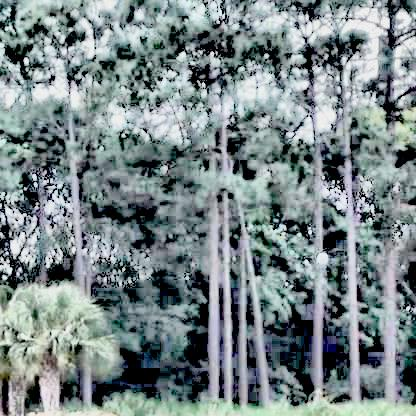golfball: (315, 251, 327, 263)
